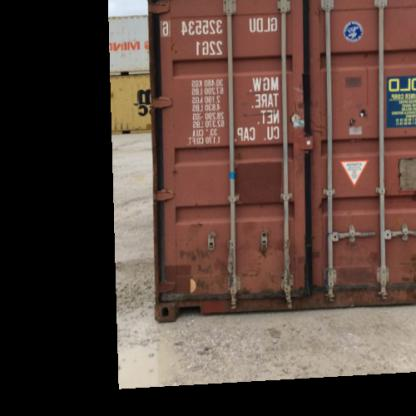Damage: (172, 219, 308, 296), (338, 236, 415, 306), (287, 60, 324, 136), (344, 100, 375, 138)
